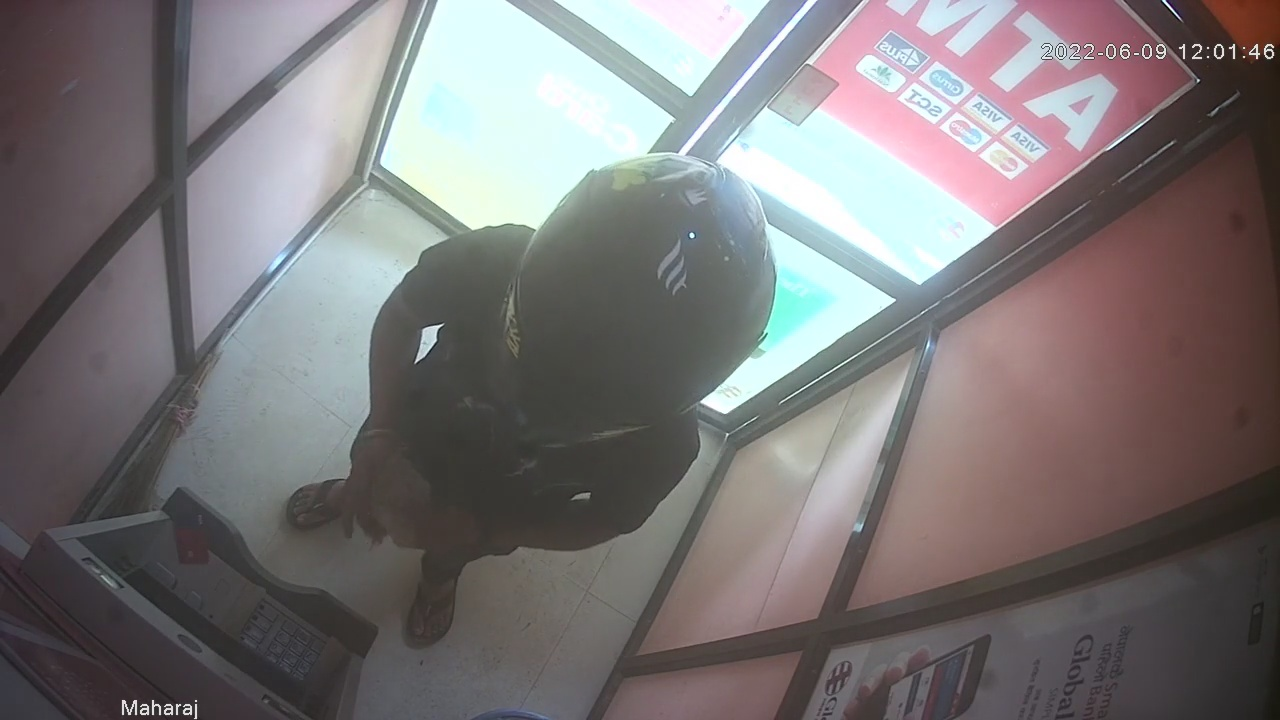helmet: (488, 151, 776, 451)
person: (285, 150, 777, 652)
